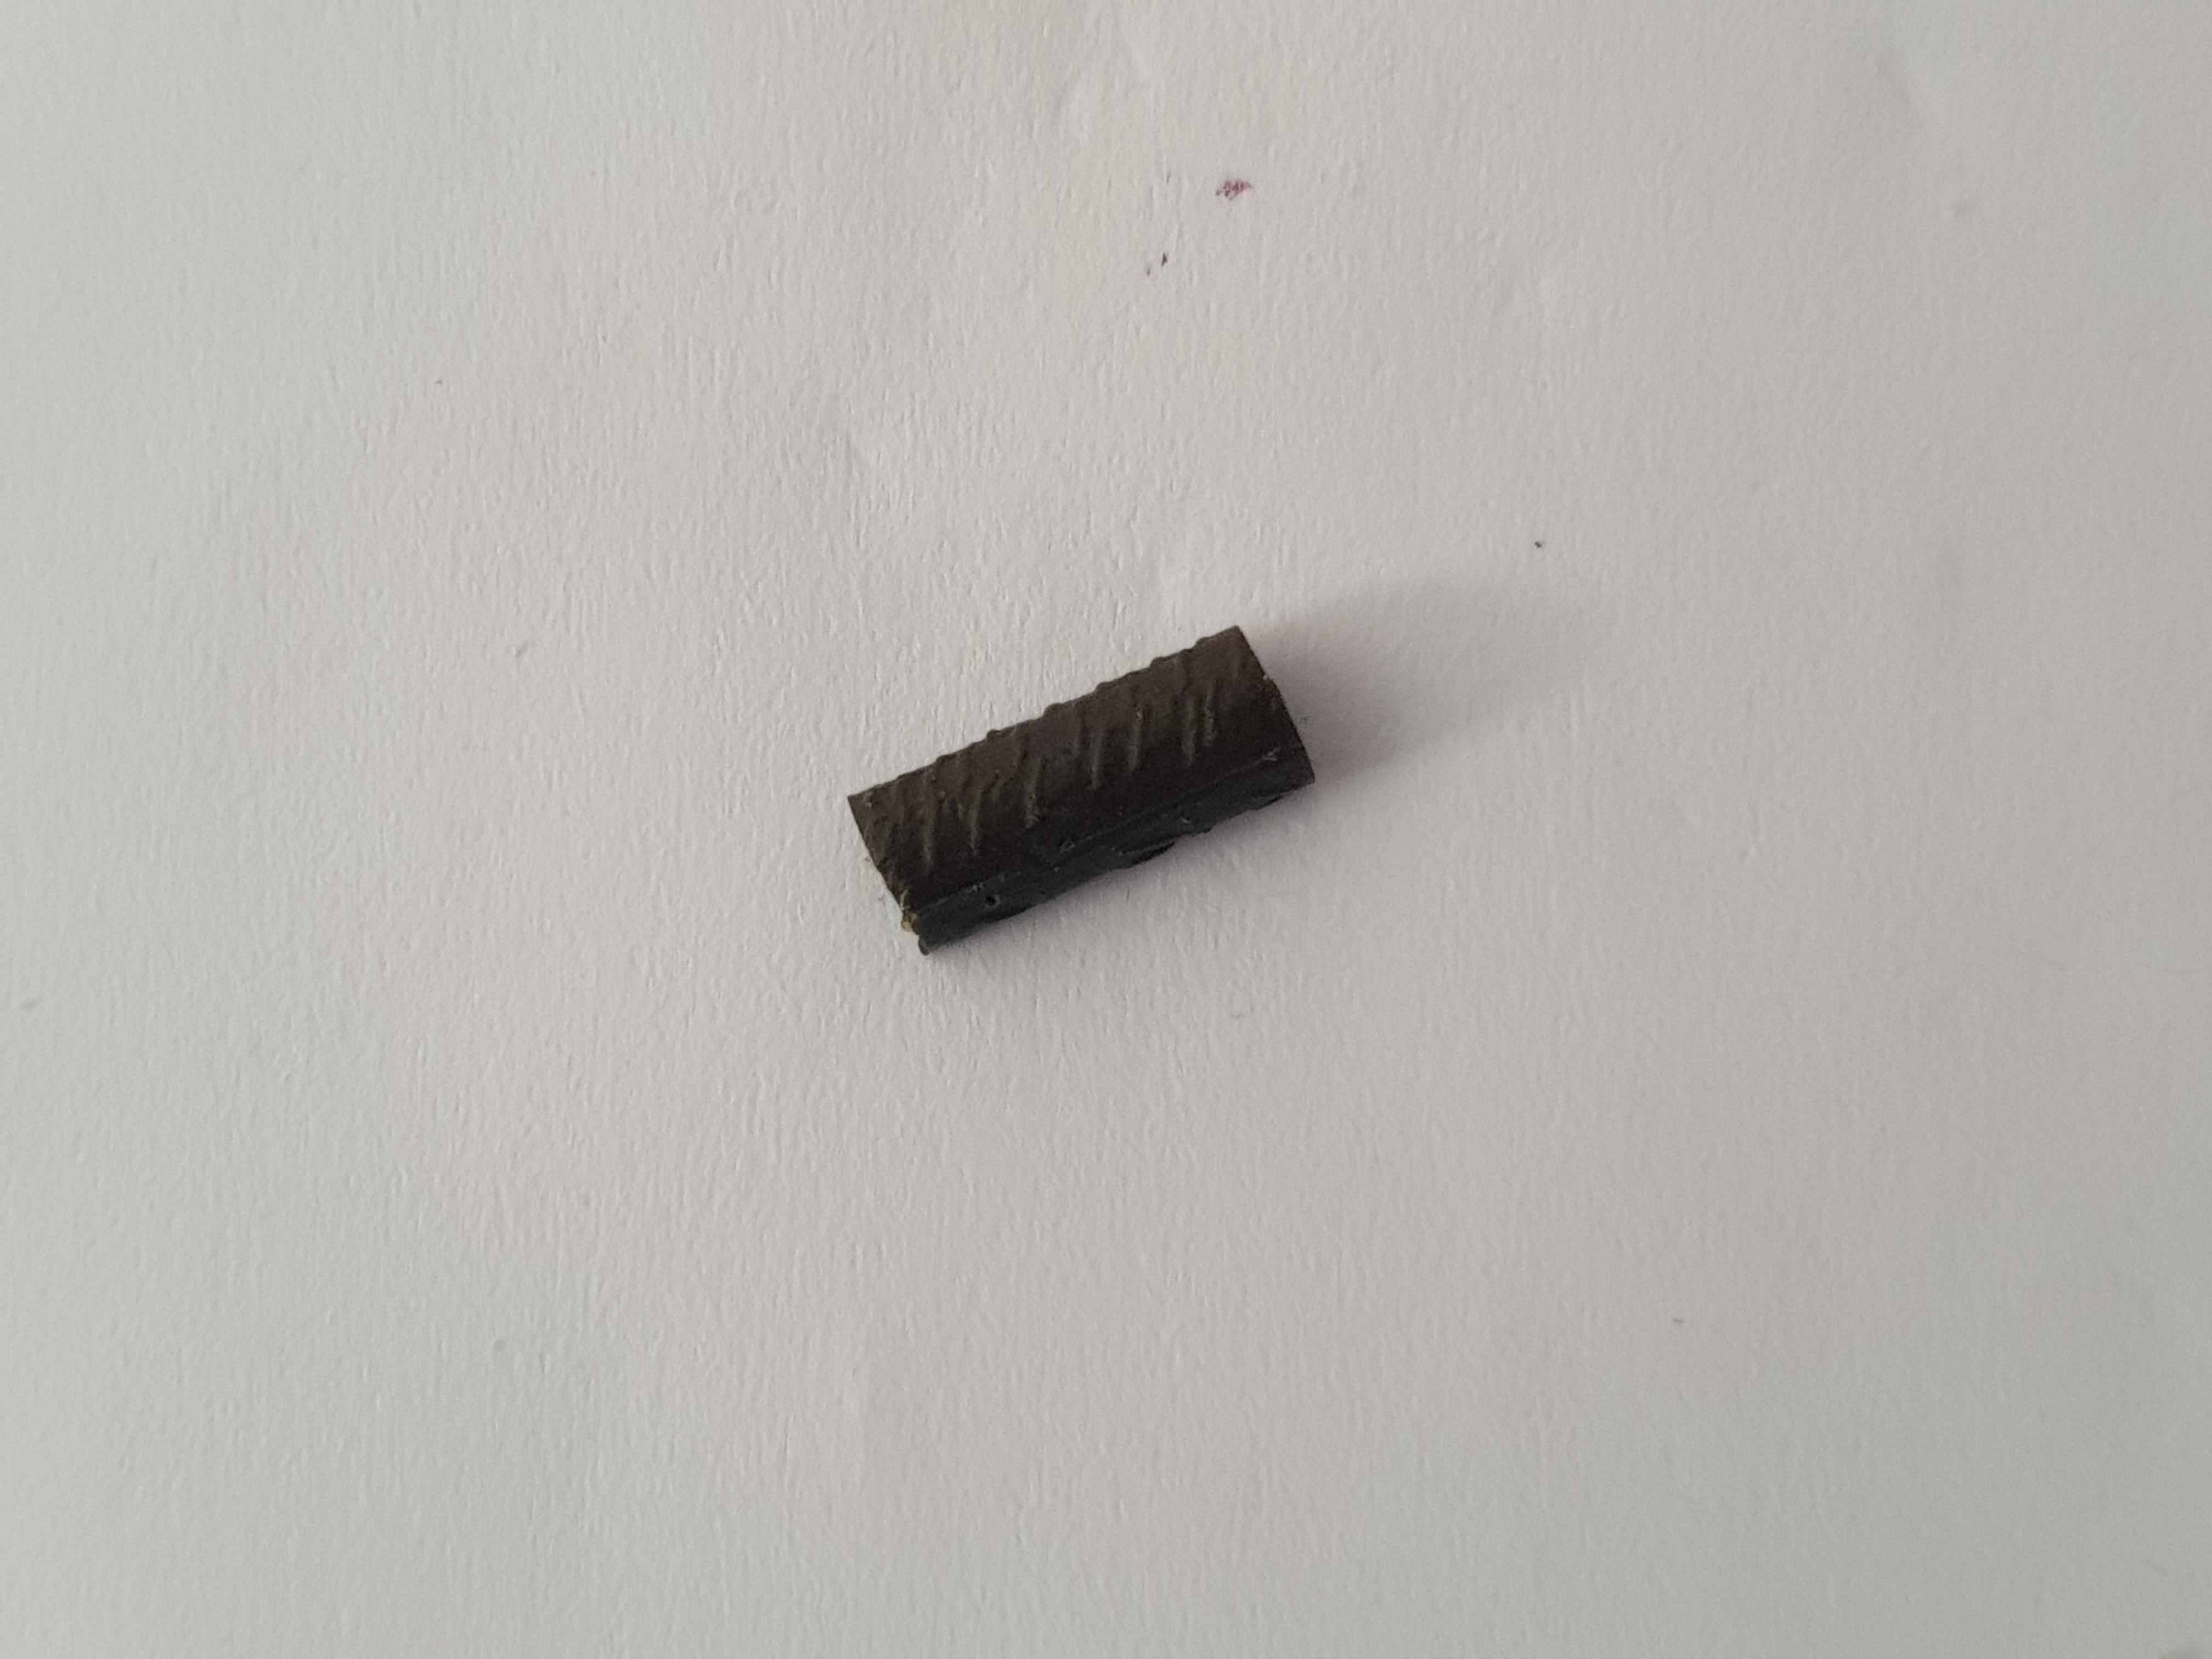plastic: (827, 608, 1364, 965)
